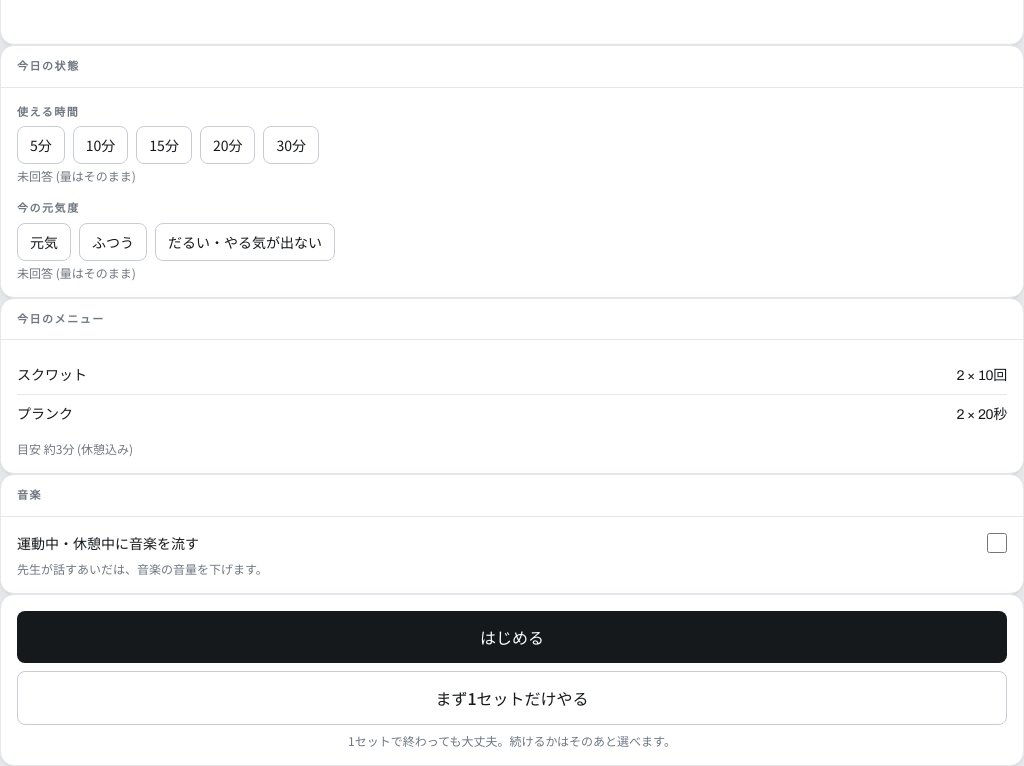
Scenario: scene changes › keeps the first start cue and cuts stale speech before the rest and next-set cues
(page scrolled)
Click the button "はじめる" at coordinates (512, 636), box [17,610,1007,662]
(page scrolled)
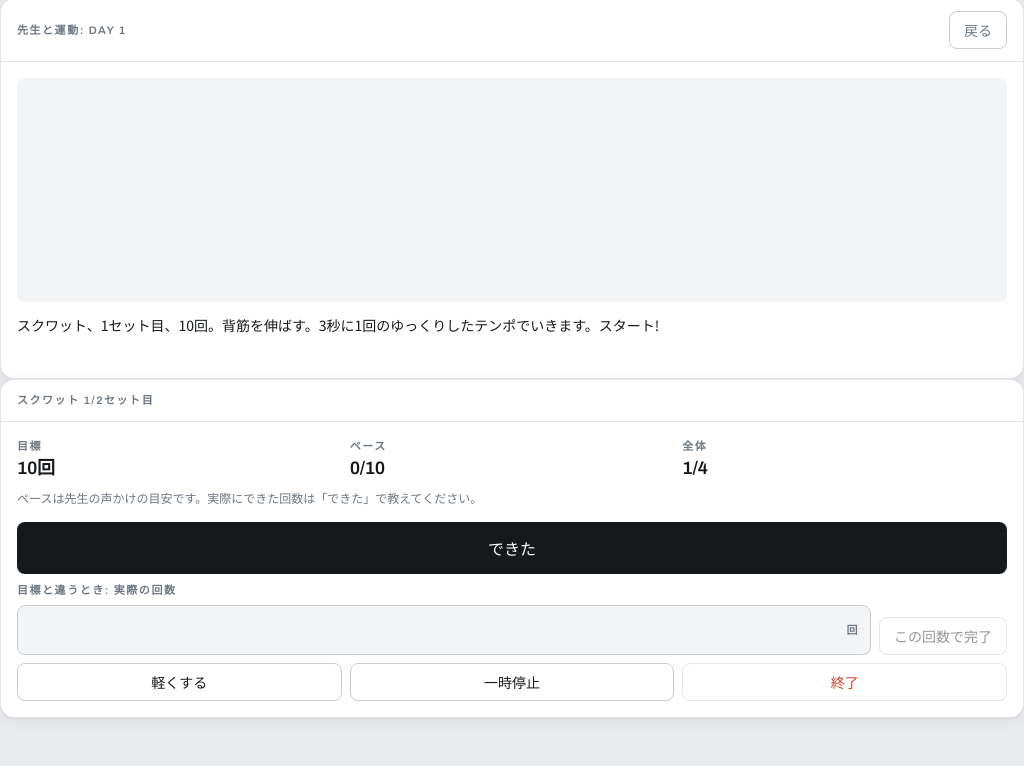
Result: the button "できた" is shown
Click the button "できた" at coordinates (512, 548), box [17,522,1007,574]
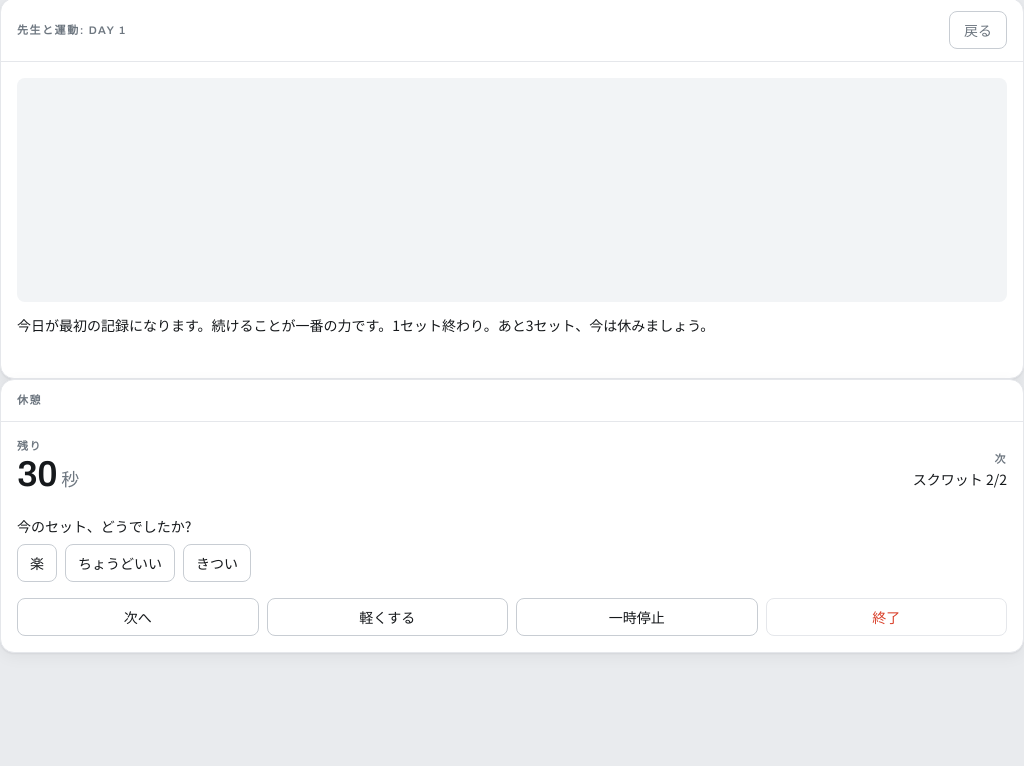
Result: the heading "休憩" is shown at [17,392,42,408]
Click the button "次へ" at coordinates (138, 617), box [17,598,258,636]
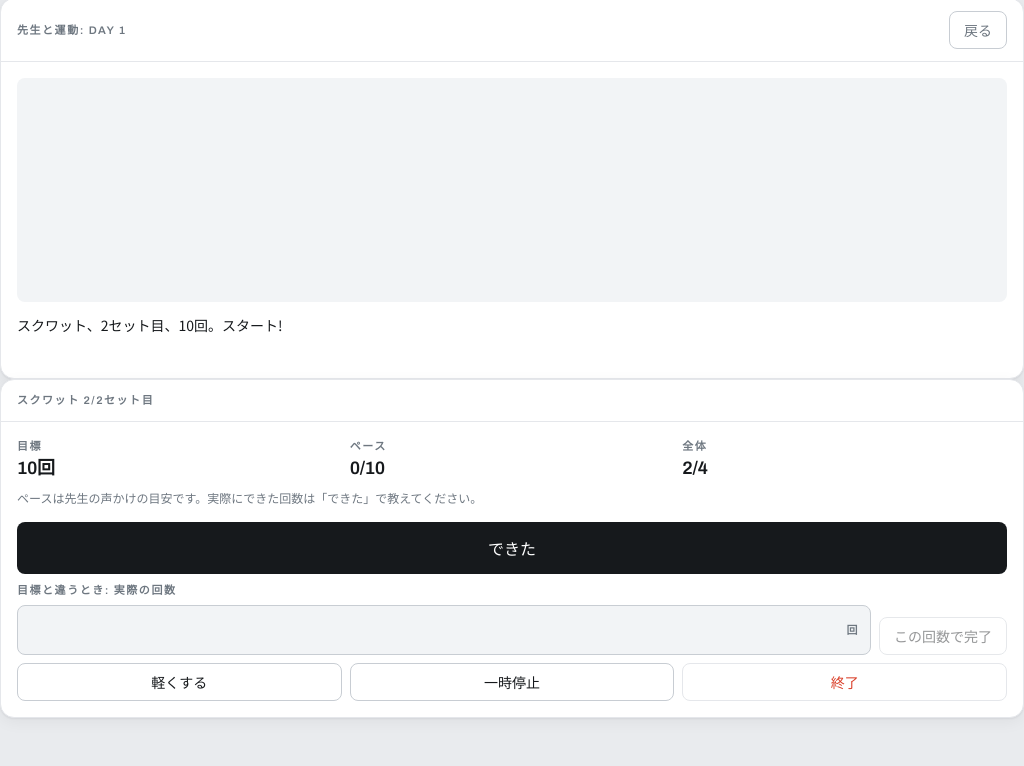
Result: the button "できた" is shown at [17,522,1007,574]
